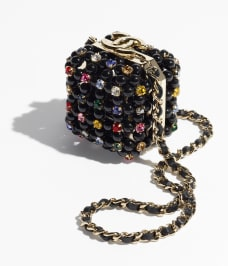channel: (68, 29, 211, 155), (80, 164, 202, 241)
